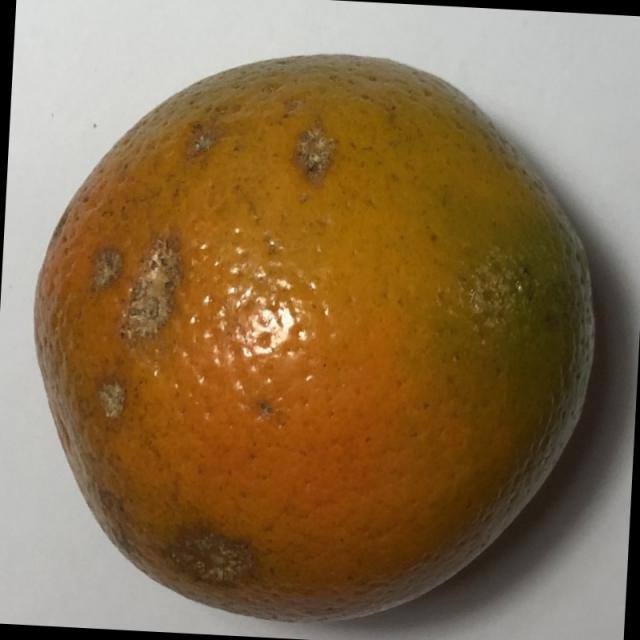canker: (20, 36, 633, 631)
